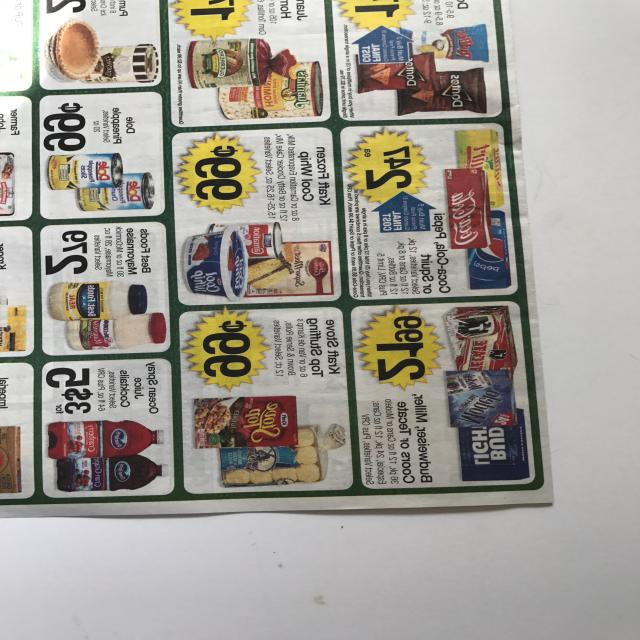paper: (0, 0, 587, 576)
